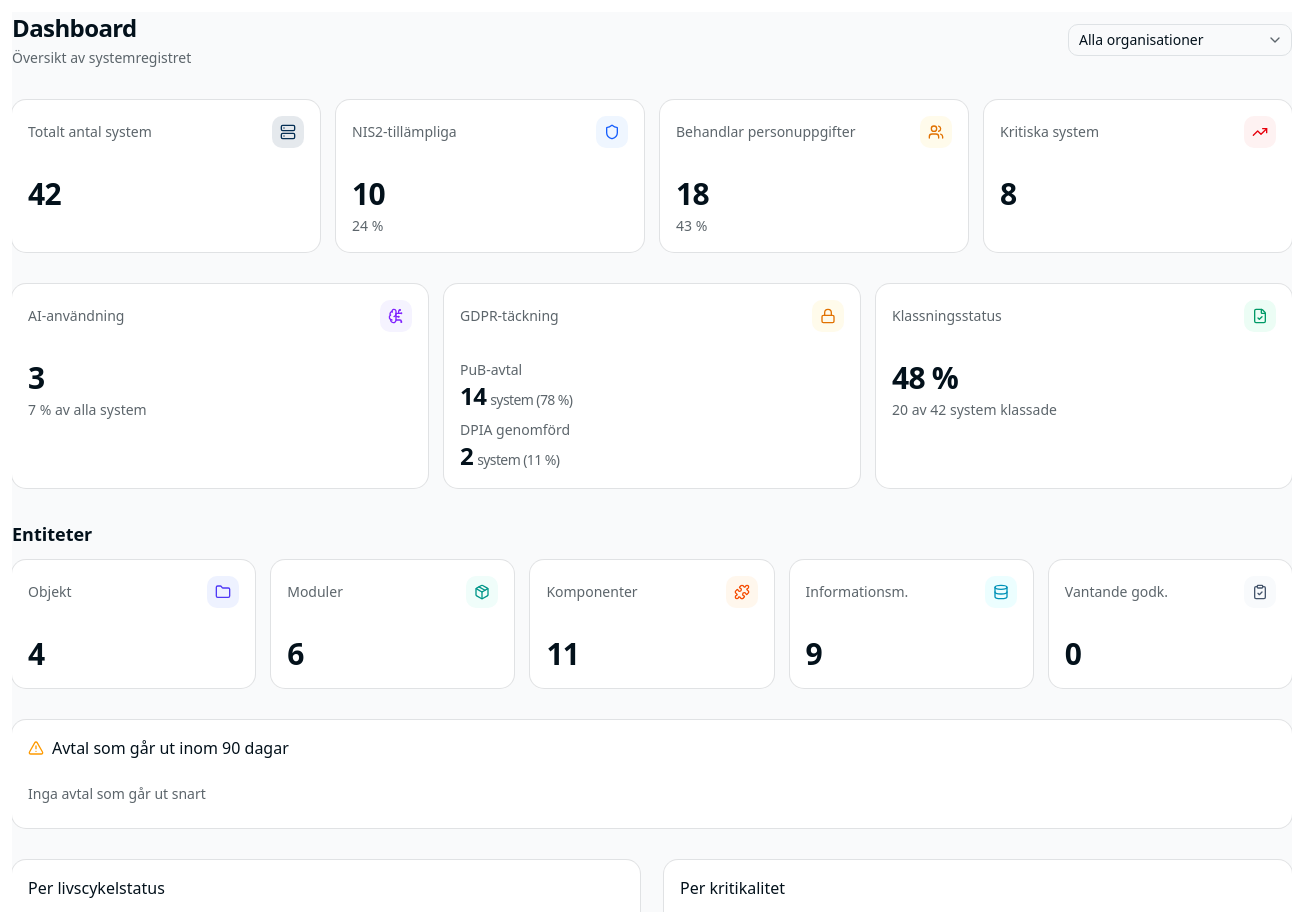
Scenario: DashboardPage › Organisation-filter › filtrering på org-1 hämtar filtrerad statistik
Click the dropdown: (1180, 40) [1068,24,1292,56]
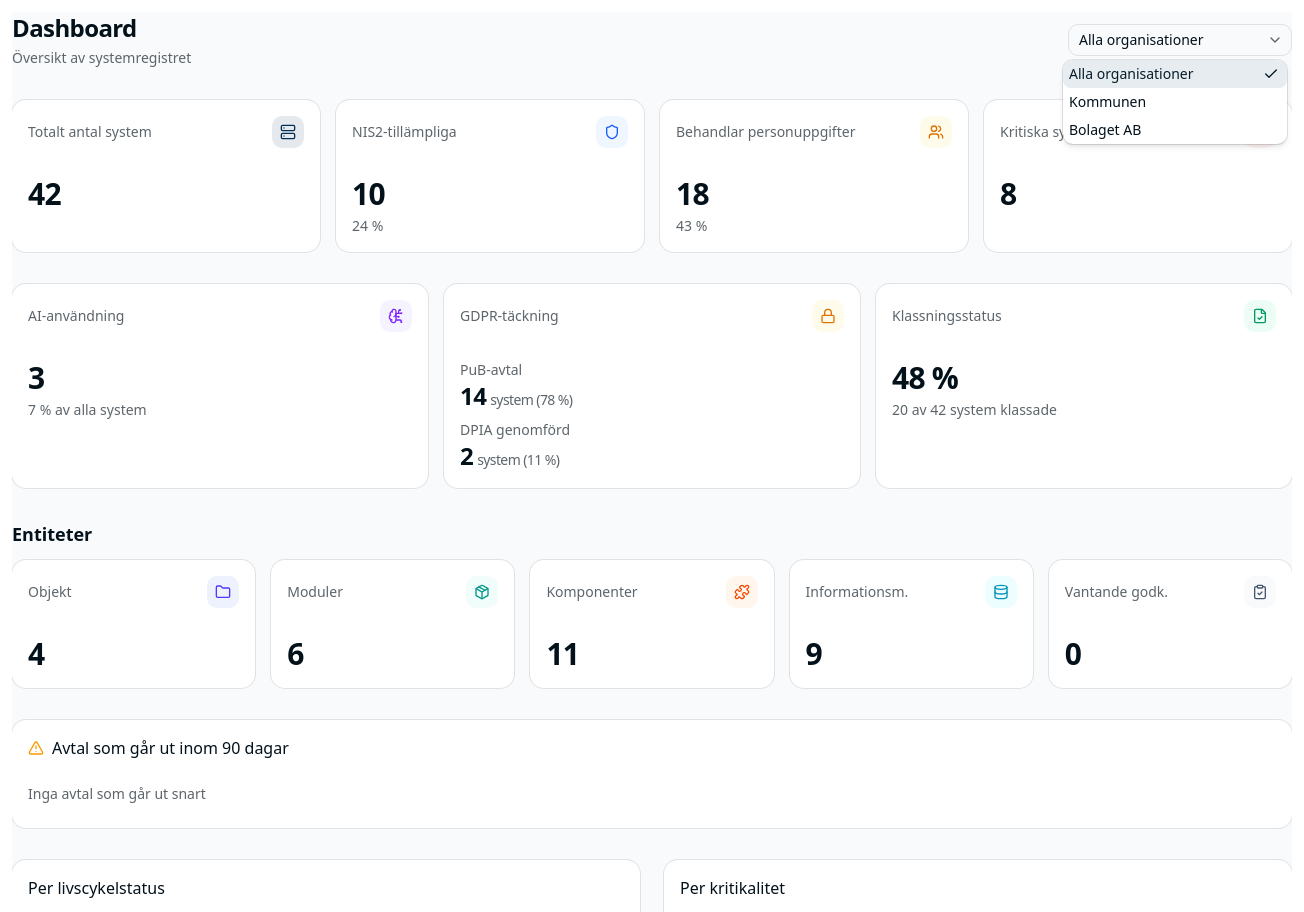
Result: the option "Kommunen" is shown
Click the option "Kommunen": (1108, 102) [1069,92,1146,111]
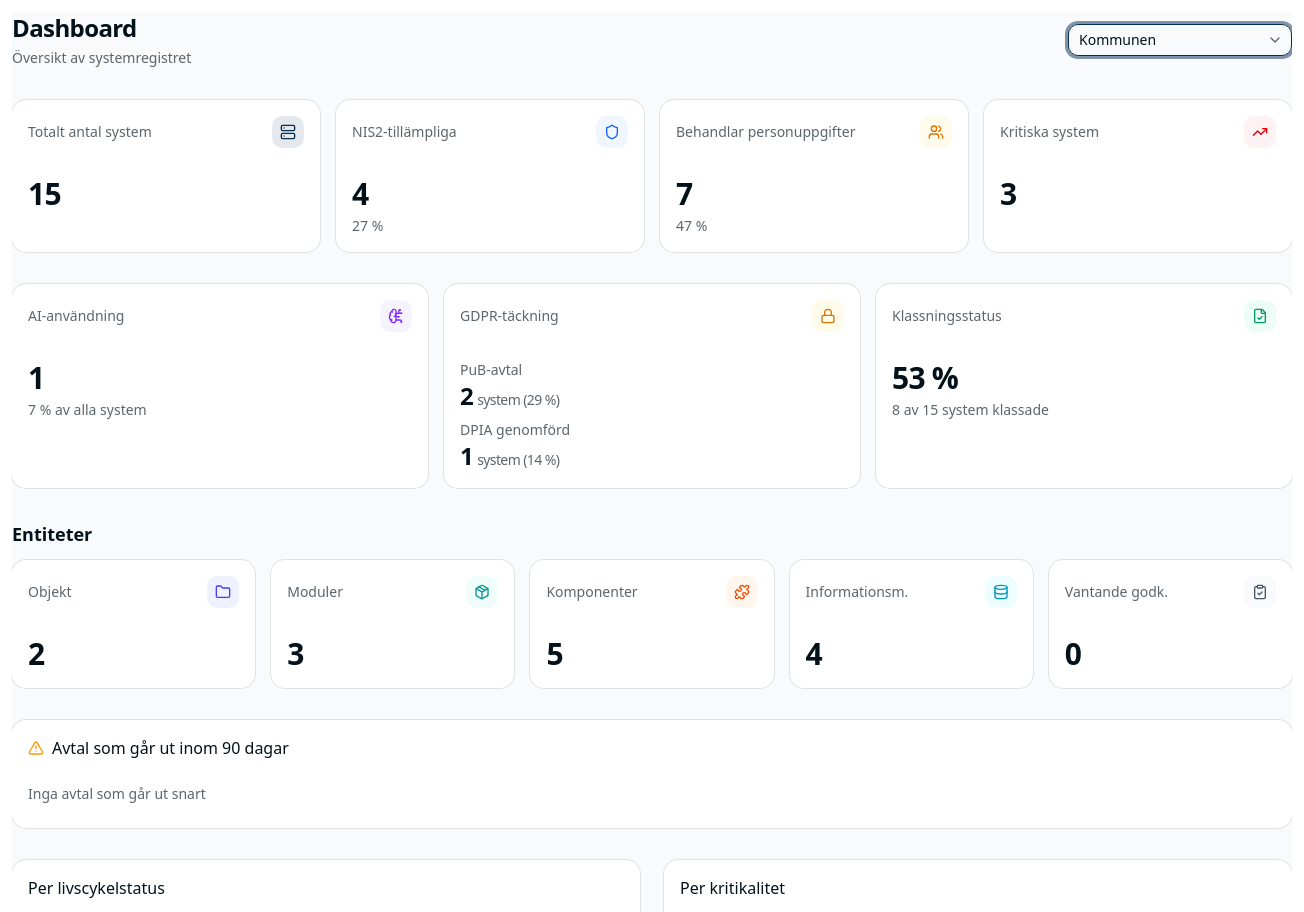
Result: the text "15" is shown at [28,173,61,214]
